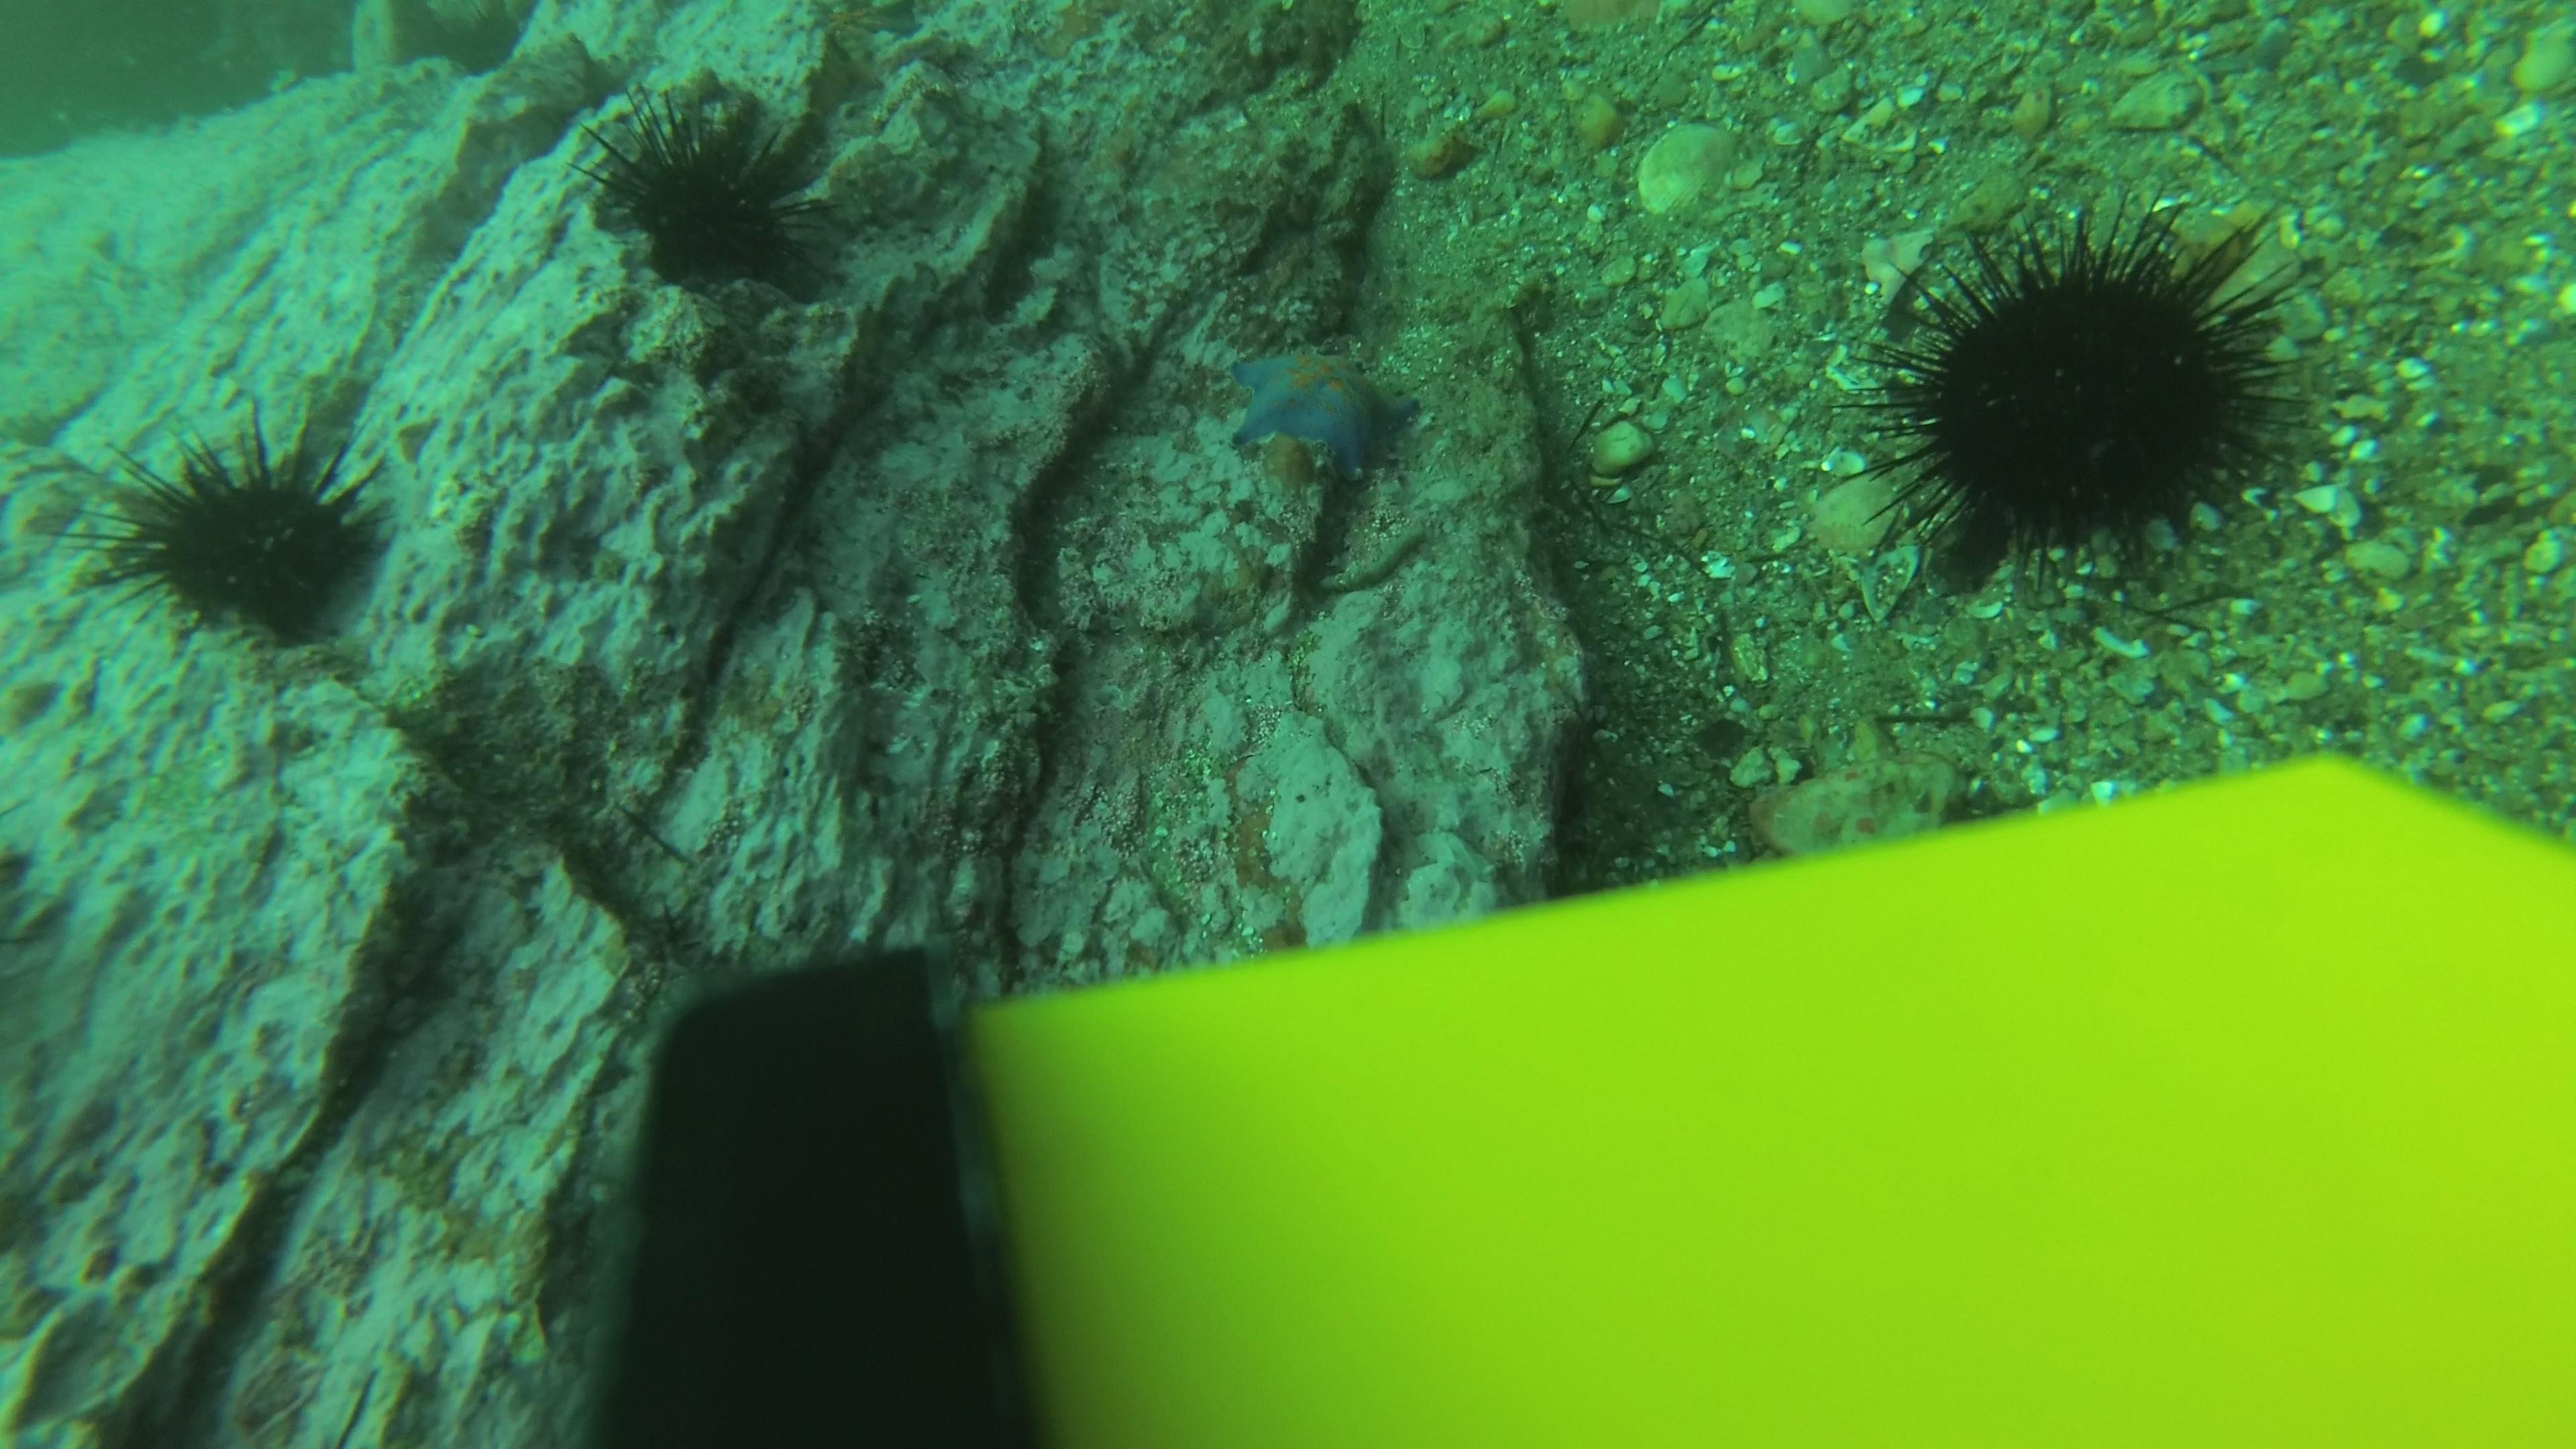echinus: (1856, 196, 2316, 577), (80, 400, 400, 649), (579, 80, 837, 294)
starfish: (1217, 336, 1424, 479)
